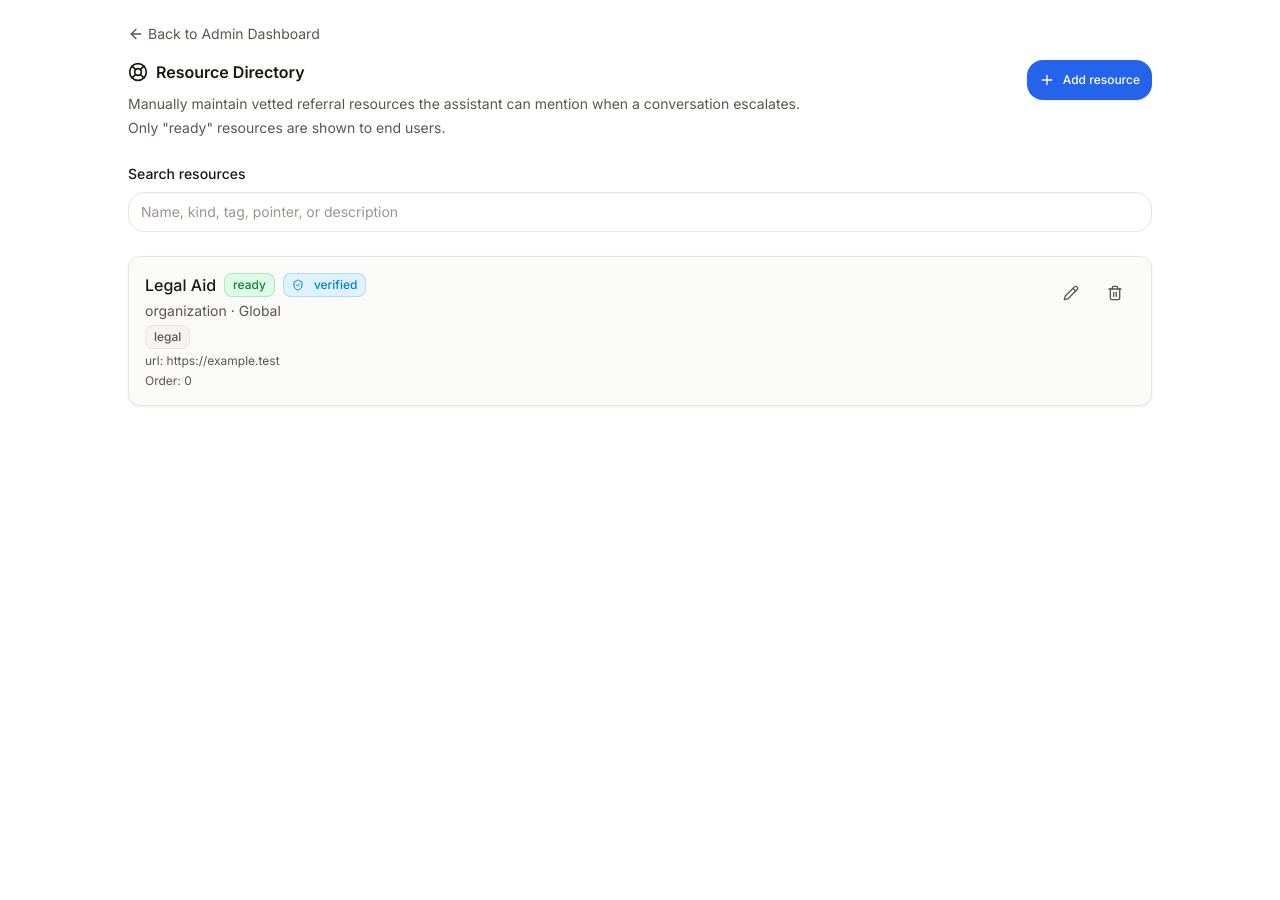
Scenario: AdminResourcesDirectory › labels create/edit and delete modals as accessible dialogs
This screenshot has width=1280, height=900.
Click the button "Add resource" at {"x": 1089, "y": 80}, box [1027,60,1152,100]
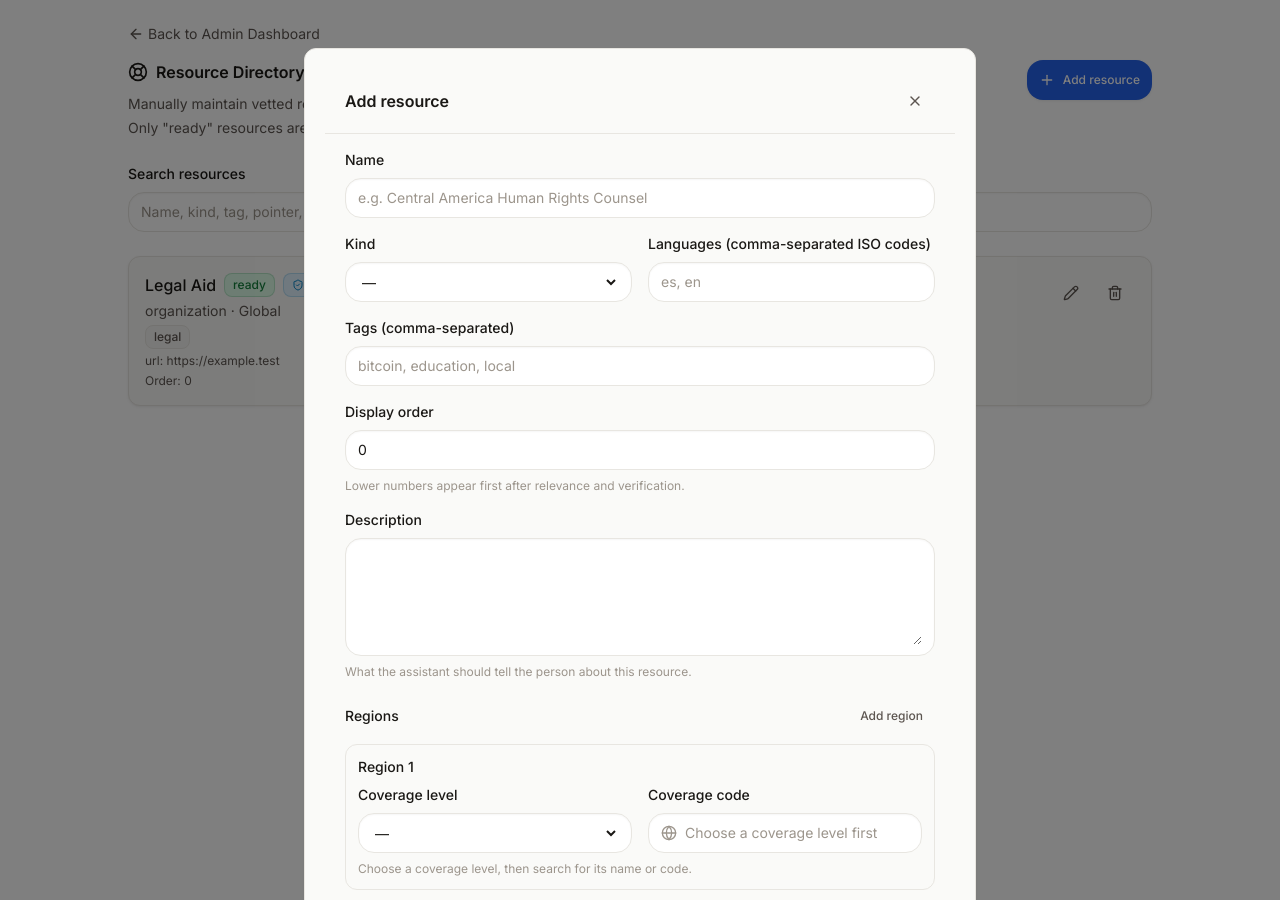
Check: the button named "Close" is enabled
Click the button named "Close" at {"x": 915, "y": 101}, box [895,81,935,121]
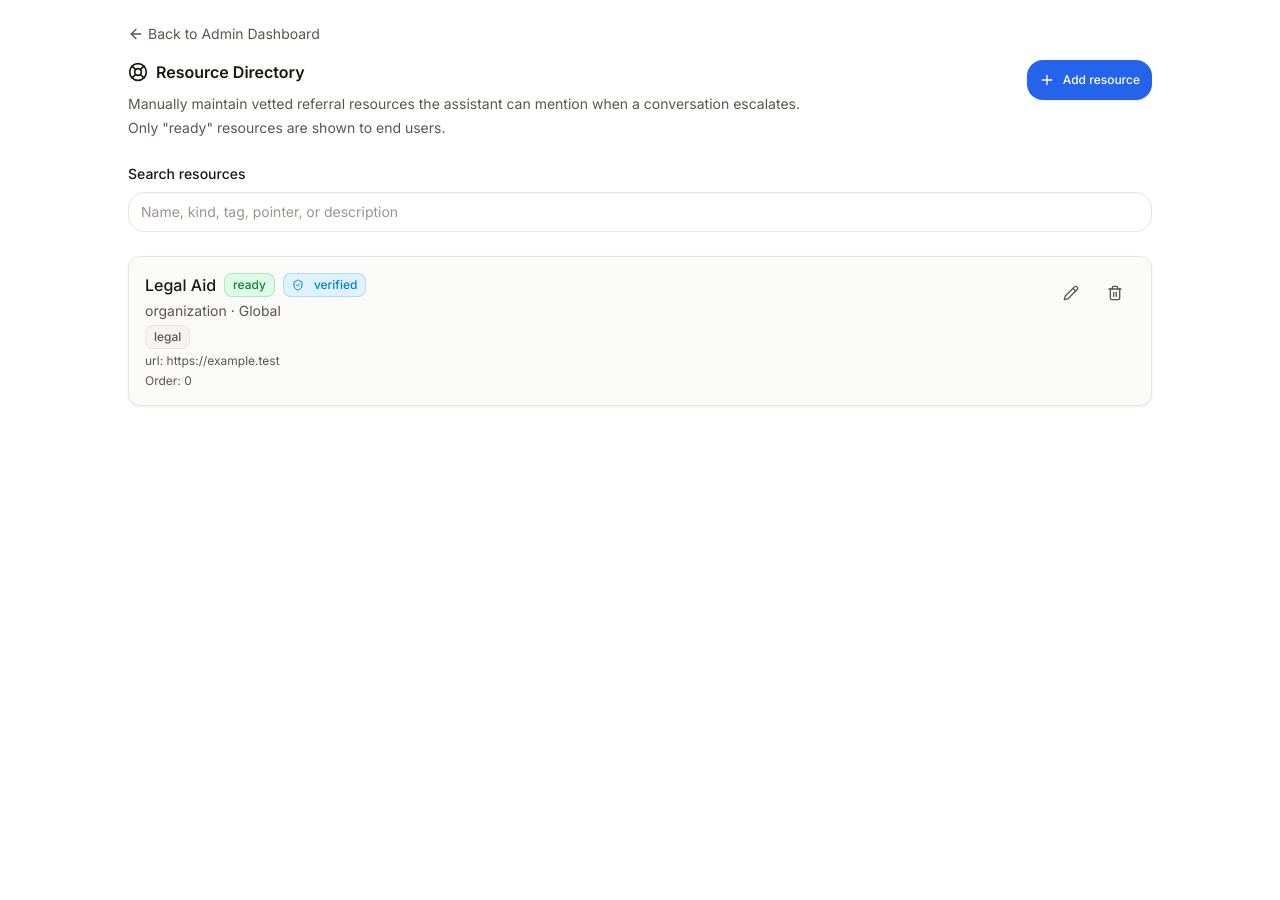
Click the button named "Delete" at {"x": 1115, "y": 293}, box [1095,273,1135,313]
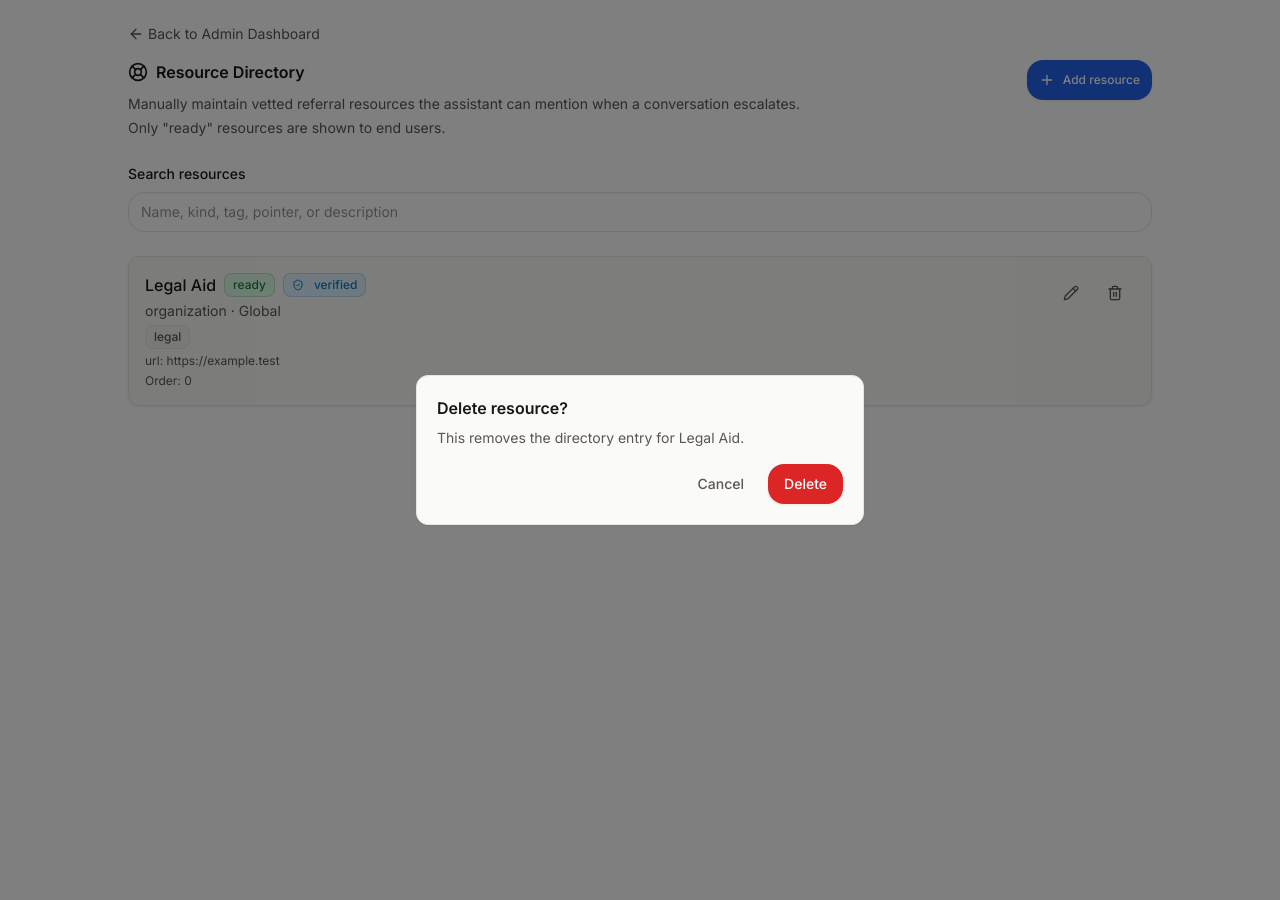
Check: the button "Cancel" is enabled, box [682,464,760,504]
